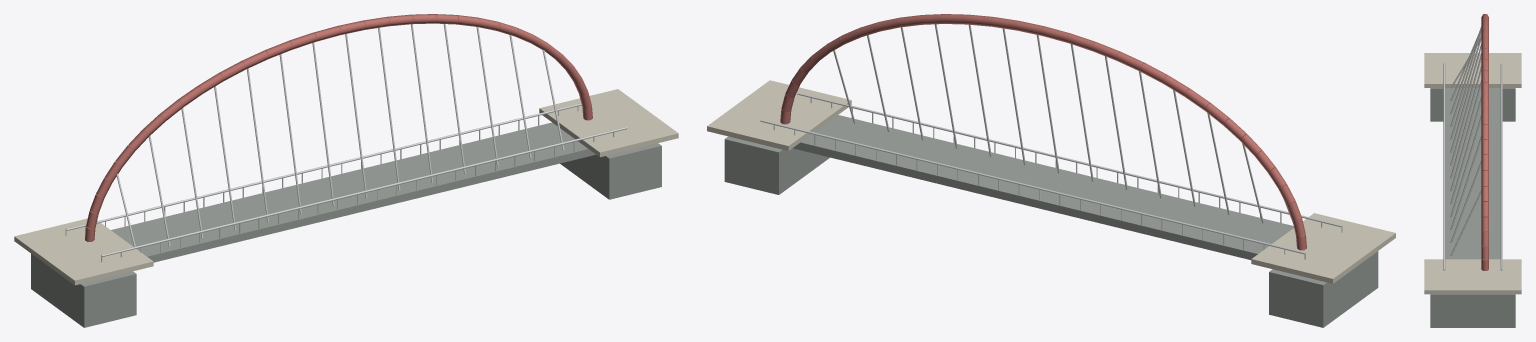
The model's file is rainbow.glb.
The picture shows the model from 3 angles, left to right: view 1: azimuth 30°, elevation 25°; view 2: azimuth 150°, elevation 25°; view 3: azimuth 270°, elevation 25°; orthographic projection. The views are drawn at different scales.
Visible parts, largest first — view 1: rainbow; view 2: rainbow; view 3: rainbow.
Boxes of the visible parts, x1=… form: rainbow: x1=14, y1=14, x2=678, y2=327; rainbow: x1=707, y1=14, x2=1395, y2=327; rainbow: x1=1424, y1=14, x2=1521, y2=327.
Size of the model in its own units: 46 by 14.98 by 8.
